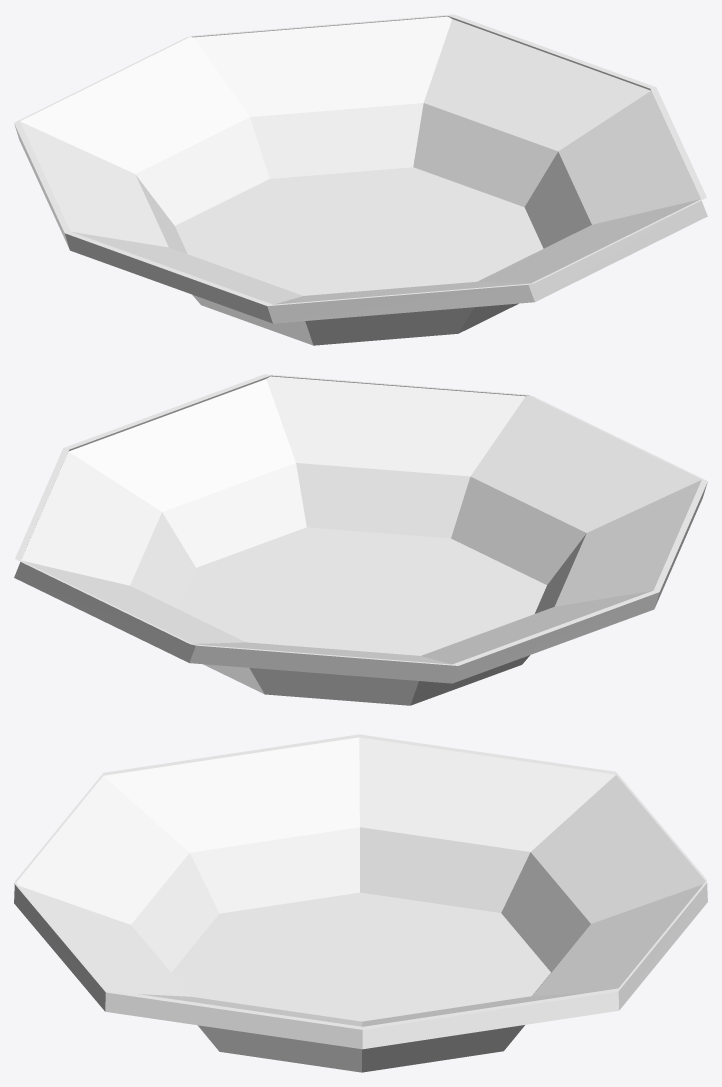
The model's file is Kitchen_2_Plate.fbx.
3 renders of one model, top to bottom at view 1: azimuth 30°, elevation 25°; view 2: azimuth 150°, elevation 25°; view 3: azimuth 270°, elevation 25°, orthographic. The views are drawn at different scales.
Parts seen in each view (by area): view 1: Kitchen_2_Plate; view 2: Kitchen_2_Plate; view 3: Kitchen_2_Plate.
Part boxes in pixels (x1=…): Kitchen_2_Plate: x1=14, y1=14, x2=707, y2=345; Kitchen_2_Plate: x1=14, y1=374, x2=707, y2=705; Kitchen_2_Plate: x1=14, y1=734, x2=707, y2=1072.
Size of the model in its own units: 43.71 by 43.32 by 7.47.
